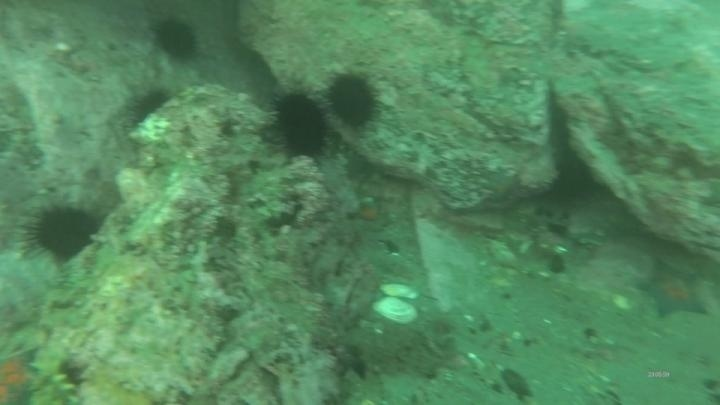echinus: (21, 199, 105, 266), (266, 87, 333, 161), (323, 68, 384, 132), (123, 85, 174, 136), (151, 16, 202, 63)
holothurian: (21, 345, 79, 405)
starfish: (631, 255, 712, 323), (1, 344, 43, 405), (480, 168, 523, 205)
